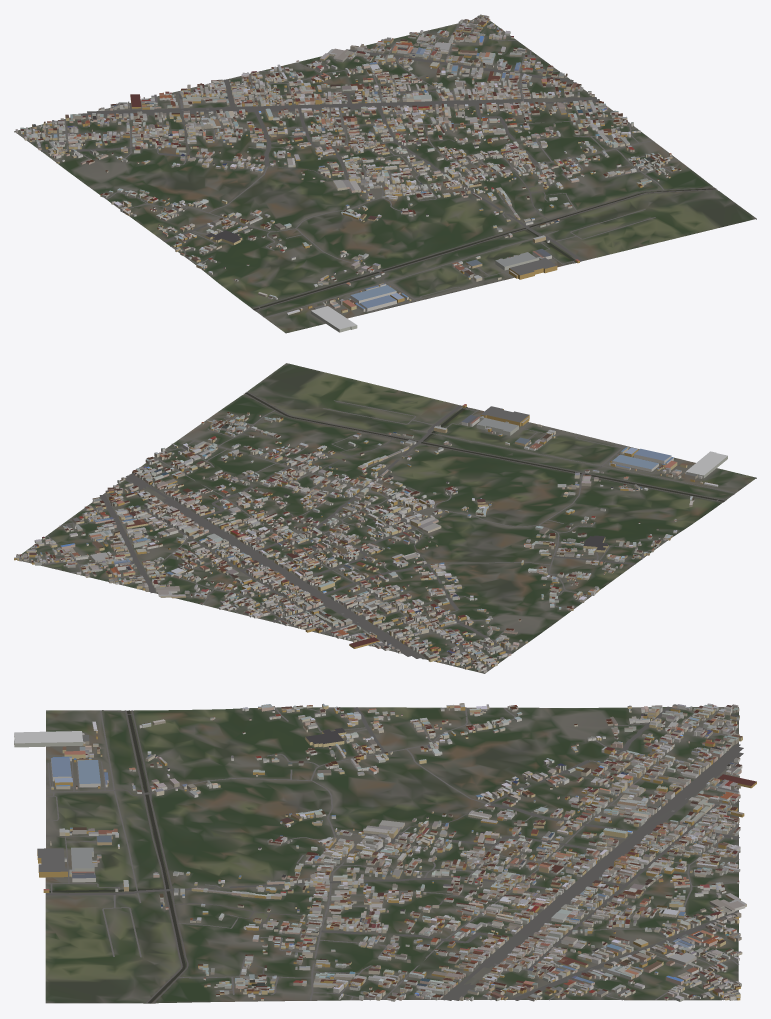
3 views of the same model, one above another, from view 1: azimuth 30°, elevation 25°; view 2: azimuth 150°, elevation 25°; view 3: azimuth 270°, elevation 25° (orthographic). The views are drawn at different scales.
Visible parts, largest first — view 1: ground, buildings, roads, water; view 2: ground, buildings, roads, water; view 3: ground, buildings, roads, water.
Part boxes in pixels (<box>): ground: <box>14,20,756,333</box>; buildings: <box>15,14,681,332</box>; roads: <box>19,21,717,317</box>; water: <box>253,188,716,309</box>; ground: <box>16,363,756,673</box>; buildings: <box>14,404,727,673</box>; roads: <box>24,391,735,670</box>; water: <box>245,392,724,501</box>; ground: <box>45,707,738,1003</box>; buildings: <box>14,703,756,1001</box>; roads: <box>45,706,743,1002</box>; water: <box>49,710,185,1003</box>.
Size of the model in its own units: 1412 by 28.19 by 1501.
